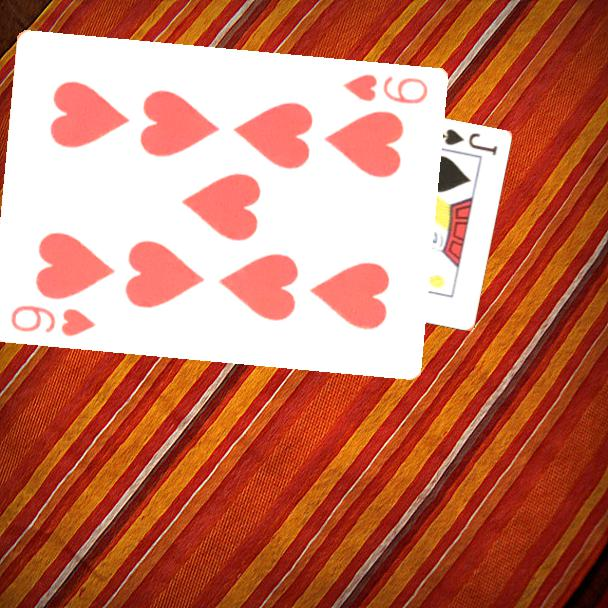h09: (8, 301, 99, 339), (340, 70, 431, 107)
s11: (437, 126, 500, 159)
